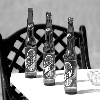beer: (62, 16, 79, 94)
